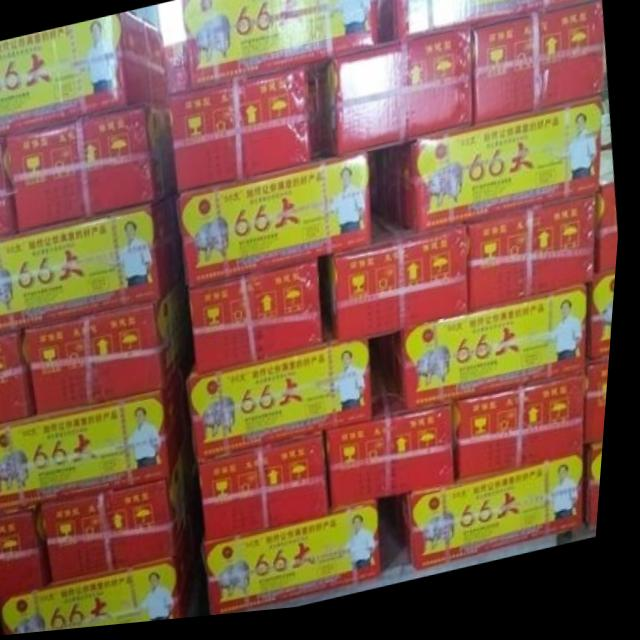box: (406, 107, 607, 241), (180, 158, 376, 293), (0, 379, 192, 514), (0, 199, 182, 335), (192, 346, 380, 472), (401, 295, 594, 417), (403, 464, 594, 580), (8, 104, 180, 232), (11, 527, 210, 636), (0, 14, 169, 138), (30, 288, 191, 415), (181, 0, 384, 99), (212, 508, 390, 620), (323, 35, 478, 161), (50, 458, 202, 583), (333, 370, 461, 518), (331, 220, 475, 350), (168, 72, 313, 196), (472, 9, 608, 135), (470, 202, 602, 324), (192, 267, 329, 381), (458, 387, 594, 494), (207, 440, 339, 545), (392, 0, 589, 47), (0, 504, 62, 599), (0, 331, 41, 424), (594, 279, 621, 371), (0, 136, 23, 240), (591, 370, 616, 461), (602, 196, 622, 285), (592, 453, 611, 538), (165, 43, 191, 103)
